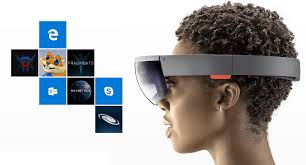hololens: (132, 50, 303, 110)
